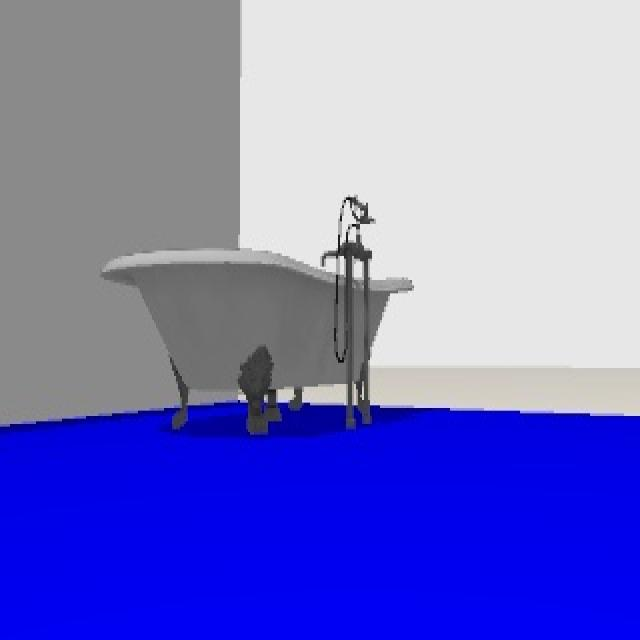bathtub: (102, 197, 414, 434)
